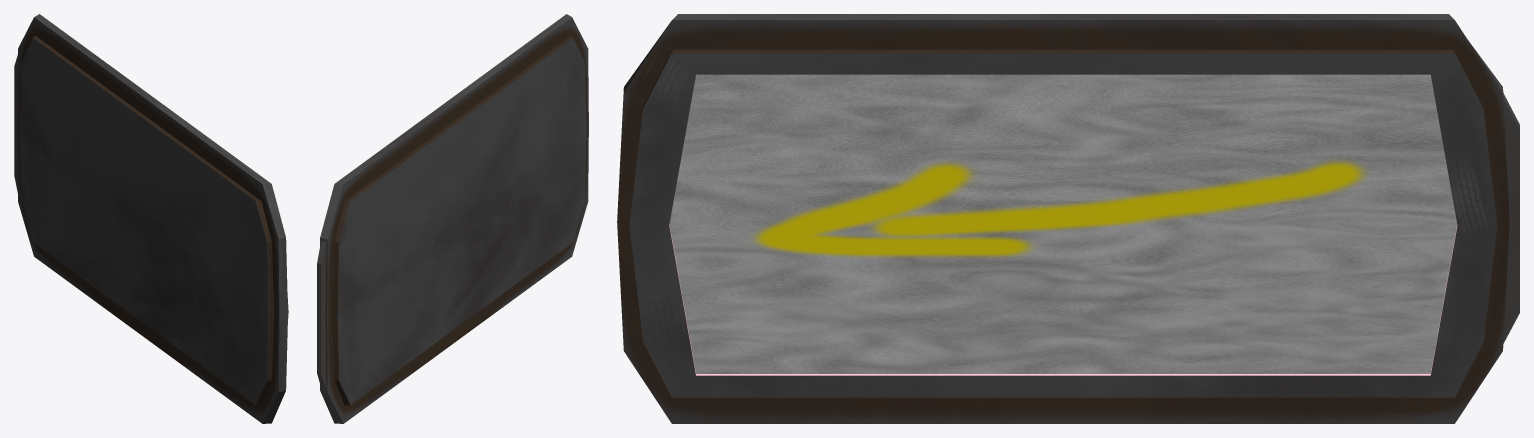
The model's file is OutDoor.fbx.
3 renders of one model, left to right at view 1: azimuth 30°, elevation 25°; view 2: azimuth 150°, elevation 25°; view 3: azimuth 270°, elevation 25°, orthographic. The views are drawn at different scales.
Parts seen in each view (by area): view 1: Billboard; view 2: Billboard; view 3: Screen, Billboard.
Part boxes in pixels (x1,y1,x2,y2): Billboard: (14,14,288,423); Billboard: (317,14,588,423); Screen: (669,74,1457,373); Billboard: (617,14,1519,423).
Size of the model in its own units: 60.59 by 884 by 1791.
